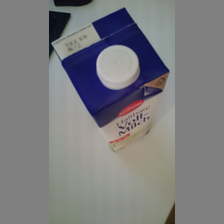milk: (49, 8, 176, 154)
